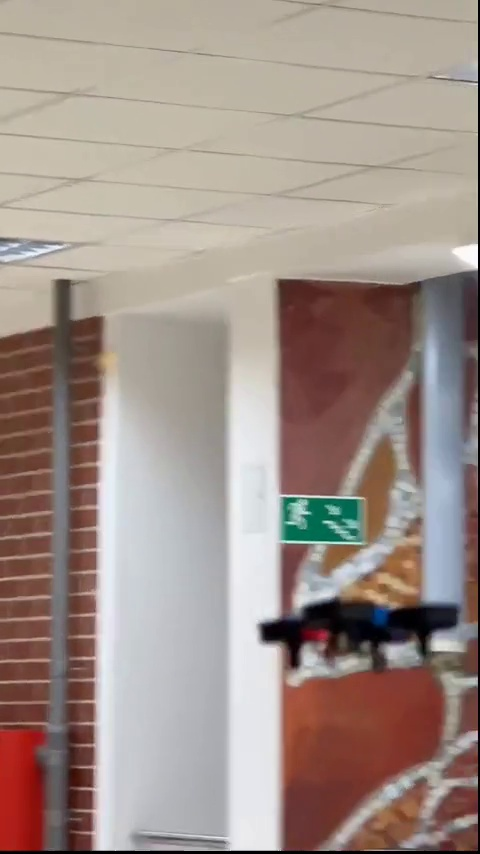drone: (258, 597, 457, 669)
